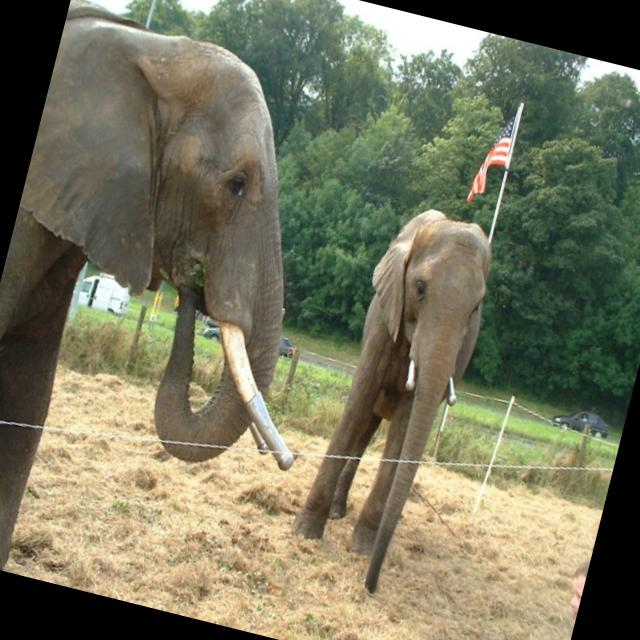elephant: (0, 0, 377, 575), (276, 142, 541, 578)
